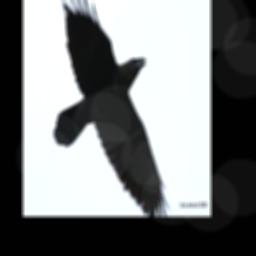Crow: (52, 0, 170, 217)
